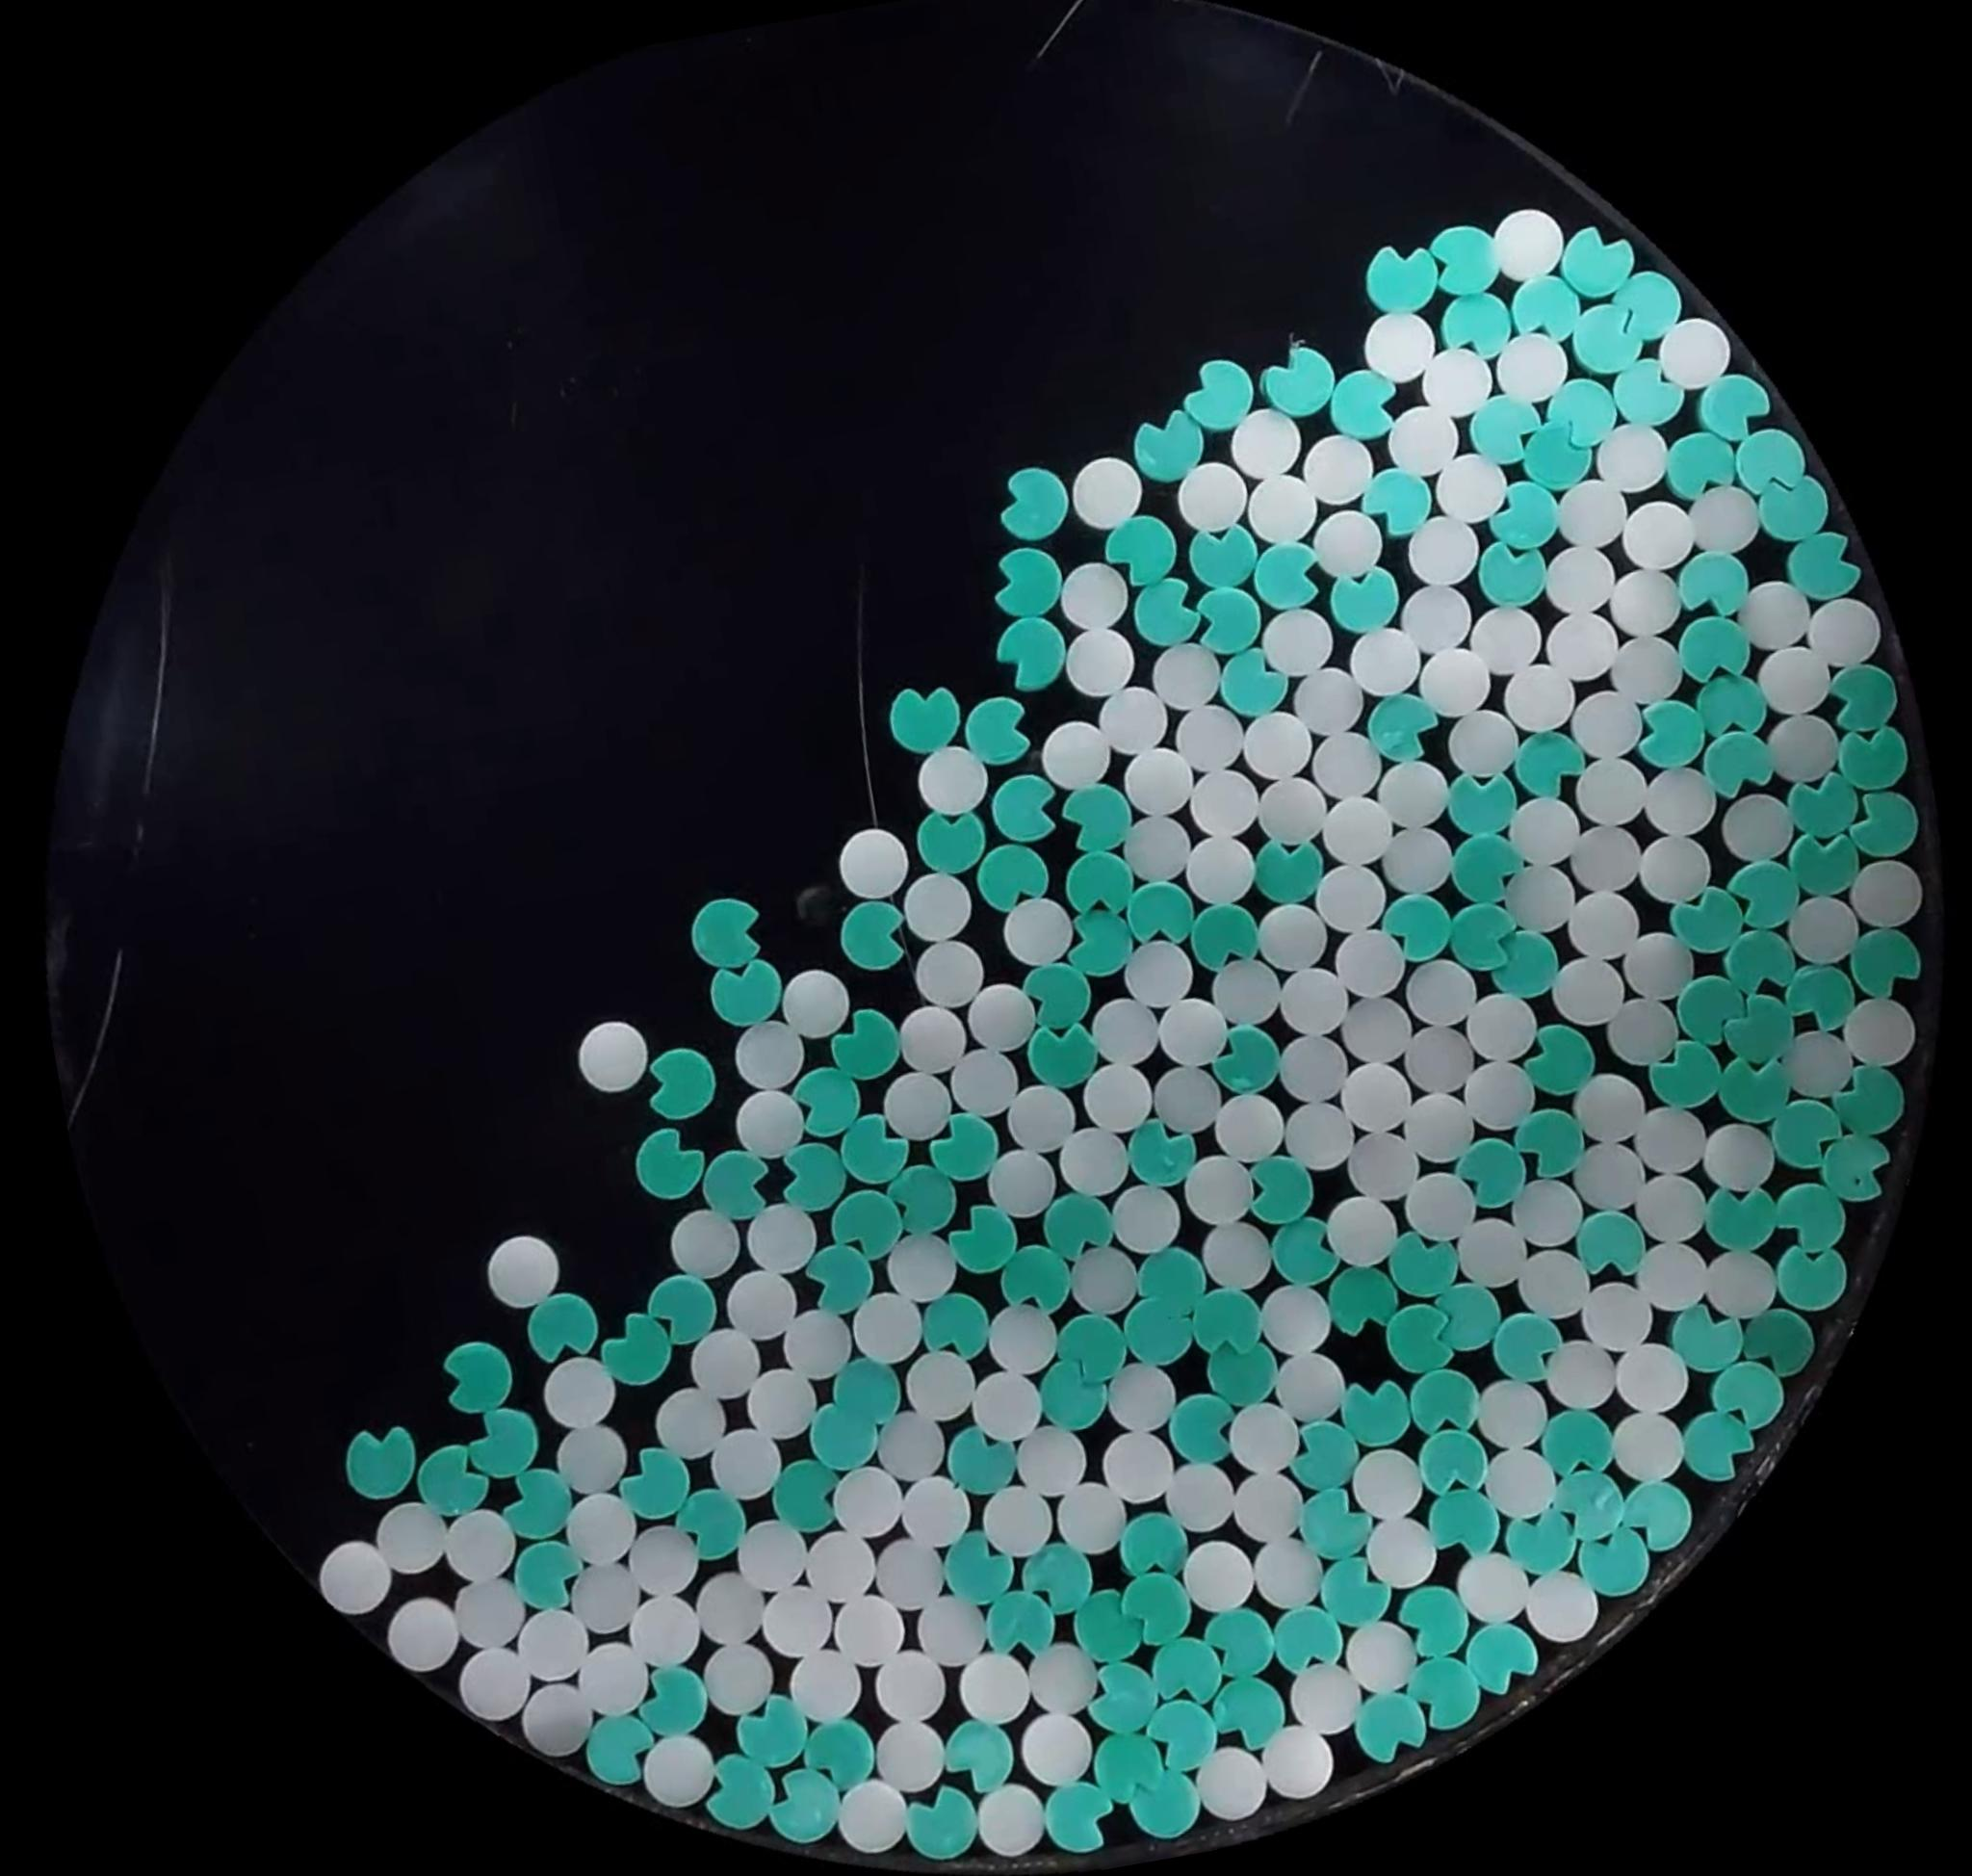no-convexa1: (745, 1439, 859, 1554), (1729, 462, 1845, 562), (1305, 1543, 1407, 1645), (1814, 1053, 1912, 1157), (1537, 1455, 1643, 1552), (1245, 1208, 1354, 1302), (1599, 254, 1701, 347), (1051, 766, 1144, 868), (1447, 1601, 1551, 1693), (1778, 949, 1877, 1045), (931, 1422, 1034, 1513), (1477, 912, 1571, 1011), (829, 1103, 921, 1203), (1055, 1300, 1146, 1399), (819, 1177, 917, 1268), (970, 830, 1063, 925), (1366, 1295, 1458, 1390), (776, 1052, 868, 1147), (1011, 1008, 1107, 1097), (914, 1104, 1012, 1193), (997, 1231, 1095, 1319), (1597, 342, 1690, 433), (1356, 687, 1447, 780), (690, 1136, 784, 1228), (1706, 923, 1801, 1013), (1449, 1133, 1539, 1228), (1734, 1293, 1824, 1388), (1430, 895, 1519, 988), (1423, 1267, 1512, 1360), (1012, 1531, 1106, 1621), (1296, 1476, 1384, 1571), (937, 1189, 1028, 1279), (1835, 784, 1923, 877), (912, 1282, 1000, 1376), (497, 1457, 590, 1545), (984, 1575, 1078, 1663), (764, 1127, 845, 1228), (1456, 384, 1542, 476), (1389, 1578, 1472, 1673), (1553, 220, 1643, 307), (1074, 1642, 1164, 1728), (1516, 1090, 1595, 1187), (1770, 1177, 1858, 1263), (1704, 1353, 1791, 1439), (593, 1307, 680, 1393), (1116, 870, 1203, 956), (1282, 1413, 1368, 1499), (1676, 1404, 1761, 1492), (1197, 1601, 1285, 1686), (1039, 1180, 1129, 1263), (1780, 525, 1866, 609), (625, 1122, 711, 1207), (942, 1524, 1023, 1614), (1711, 1046, 1796, 1131), (1333, 1374, 1419, 1457), (1699, 1177, 1785, 1259), (1643, 1034, 1729, 1117), (1671, 606, 1757, 689), (1669, 967, 1752, 1053), (1715, 988, 1798, 1075), (1782, 764, 1865, 851), (1359, 238, 1446, 321), (1255, 338, 1338, 425), (1541, 359, 1623, 446), (1062, 891, 1139, 983), (1402, 1362, 1484, 1446), (1349, 1686, 1433, 1769), (901, 1781, 984, 1865), (1446, 826, 1530, 909), (1766, 1094, 1851, 1177), (1842, 921, 1926, 1004), (1514, 412, 1597, 497), (990, 609, 1072, 694), (338, 1422, 421, 1506), (1176, 354, 1259, 439), (1379, 1222, 1468, 1300), (1722, 851, 1805, 934), (1500, 1501, 1583, 1584), (1616, 1476, 1699, 1559), (1572, 1520, 1655, 1603), (1403, 1651, 1486, 1733), (1689, 662, 1771, 745), (1518, 1018, 1600, 1101), (685, 890, 768, 972), (521, 1286, 604, 1369), (435, 1335, 518, 1418), (1565, 298, 1648, 380), (762, 1765, 845, 1848), (1697, 722, 1782, 803), (1666, 1298, 1750, 1379), (1481, 476, 1565, 557), (1692, 366, 1777, 447), (1831, 717, 1916, 798), (1535, 1402, 1620, 1483), (579, 1707, 660, 1791), (882, 680, 967, 761), (620, 1437, 704, 1518), (1187, 1282, 1269, 1363), (1016, 955, 1097, 1038), (1423, 1481, 1504, 1564), (1630, 692, 1711, 775), (671, 1483, 752, 1566), (732, 1693, 813, 1776), (1666, 881, 1748, 962), (632, 1659, 713, 1742), (1039, 1777, 1122, 1858), (937, 1714, 1018, 1797), (1100, 509, 1183, 590), (639, 1043, 722, 1124), (1822, 657, 1903, 740), (1127, 407, 1208, 490), (805, 1395, 886, 1478), (507, 1534, 588, 1617), (1109, 1501, 1190, 1584), (1247, 833, 1331, 912), (993, 460, 1072, 544), (1134, 1244, 1211, 1330), (414, 1439, 495, 1520), (461, 1400, 542, 1481), (1164, 1390, 1245, 1471), (1322, 1258, 1403, 1339), (1569, 1205, 1650, 1286), (1486, 1307, 1567, 1388), (1247, 535, 1328, 617), (1673, 544, 1754, 625), (641, 1267, 722, 1348), (986, 541, 1067, 622), (1120, 1113, 1201, 1194), (1729, 421, 1812, 500), (801, 1712, 880, 1795), (1770, 1237, 1852, 1316), (697, 1751, 776, 1834), (1439, 764, 1521, 844), (826, 1004, 905, 1085), (1118, 1568, 1197, 1649), (1210, 1670, 1289, 1751), (1185, 897, 1266, 976), (1268, 1599, 1349, 1679), (1414, 1423, 1493, 1504), (1504, 270, 1583, 351), (1660, 425, 1741, 504), (1090, 1726, 1169, 1807), (1356, 462, 1437, 541), (1204, 1020, 1285, 1099), (1322, 365, 1403, 444), (1034, 1360, 1113, 1441), (1071, 1589, 1148, 1672), (887, 1157, 970, 1235), (1380, 886, 1460, 965), (1060, 844, 1139, 923), (1148, 1631, 1227, 1710), (1241, 1152, 1321, 1231), (1213, 643, 1292, 722), (1782, 831, 1861, 911), (1201, 1333, 1282, 1411), (1507, 724, 1588, 801), (1472, 535, 1553, 613), (706, 955, 787, 1032), (1122, 1286, 1199, 1367), (831, 1349, 907, 1432), (1143, 1695, 1220, 1774), (1188, 580, 1266, 659), (1125, 1765, 1204, 1843), (1088, 1726, 1166, 1806), (984, 768, 1062, 847), (1437, 285, 1516, 363), (835, 895, 912, 974), (1826, 1126, 1905, 1203), (1127, 574, 1204, 652), (1426, 220, 1504, 298), (1183, 520, 1262, 595), (1324, 562, 1403, 638), (914, 803, 991, 879), (960, 692, 1035, 768), (805, 1240, 877, 1314)
